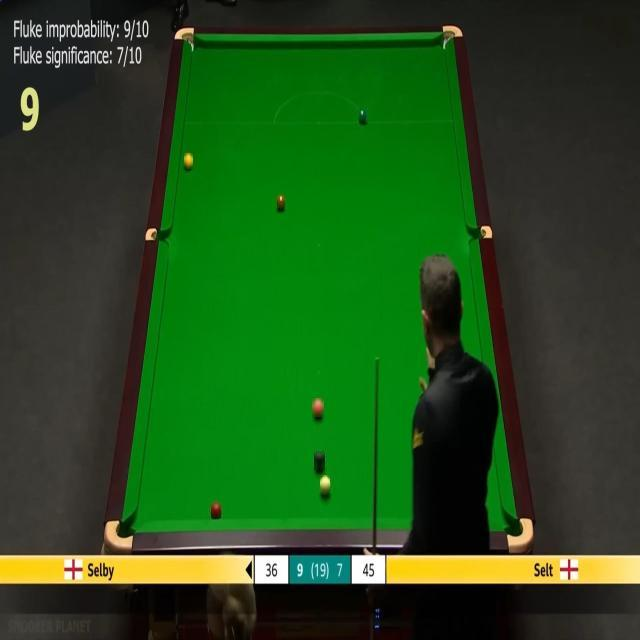Ball: (312, 398, 324, 417), (314, 451, 325, 470), (320, 475, 330, 495), (211, 502, 221, 518), (276, 194, 286, 210), (184, 153, 193, 169), (360, 109, 368, 123)
